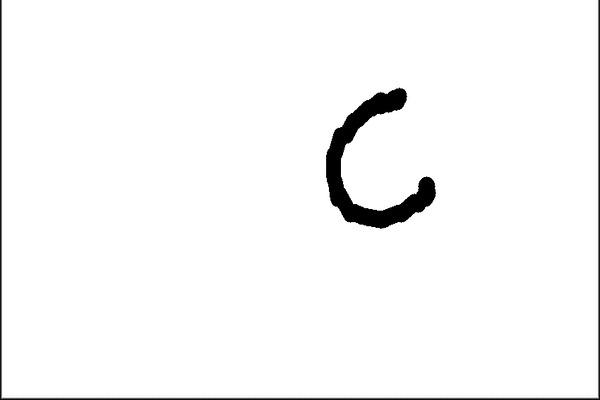C: (320, 83, 440, 231)
